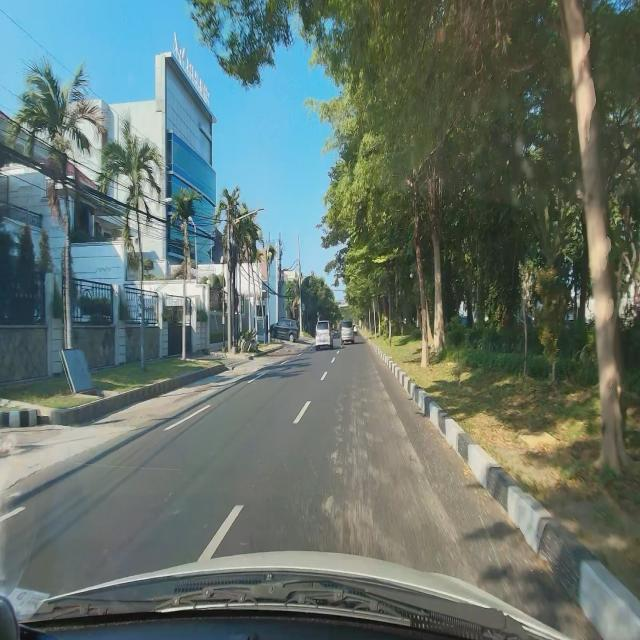car: (314, 319, 334, 352), (340, 319, 355, 347)
